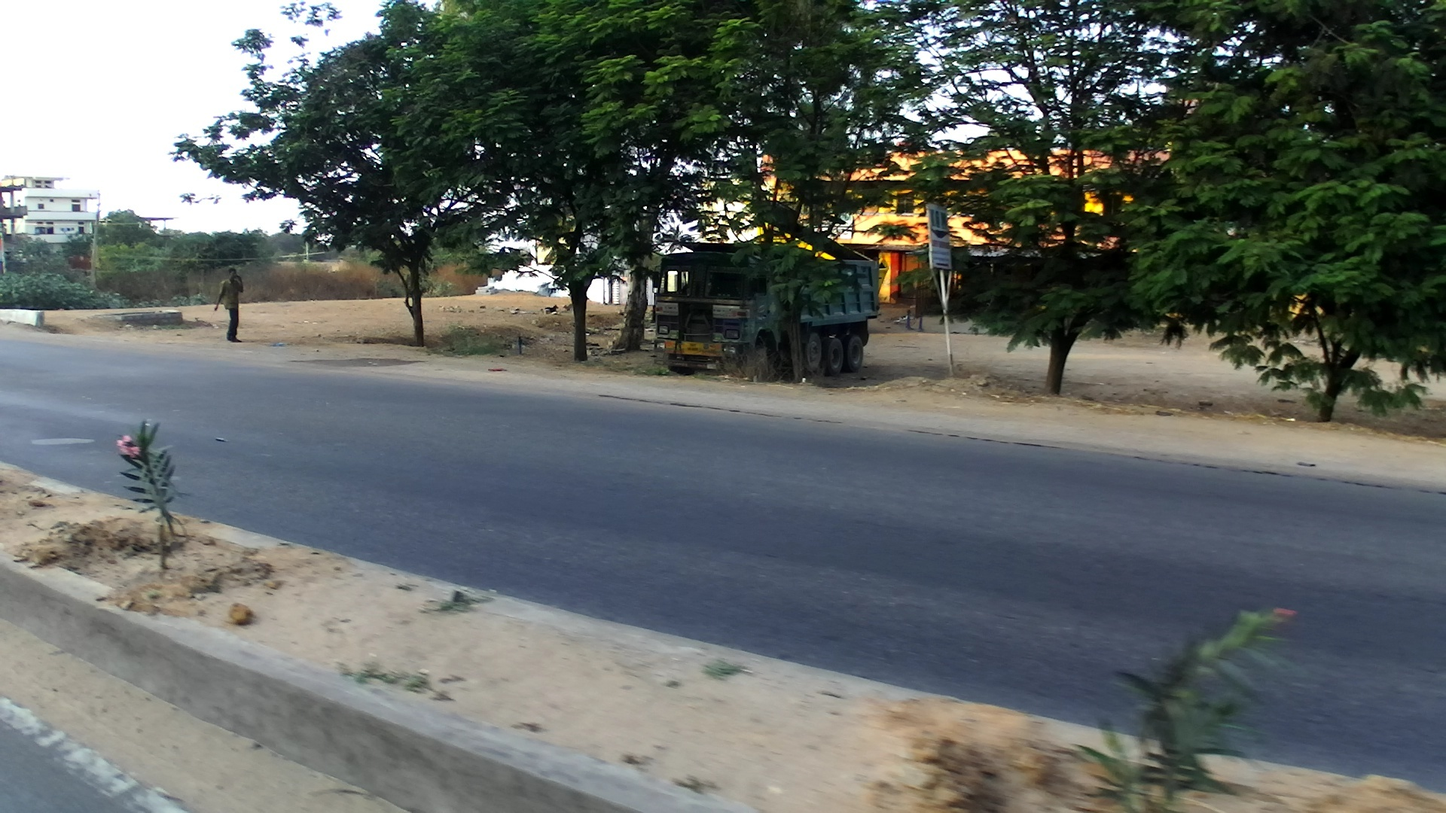person: (210, 266, 245, 344)
truck: (651, 234, 877, 388)
